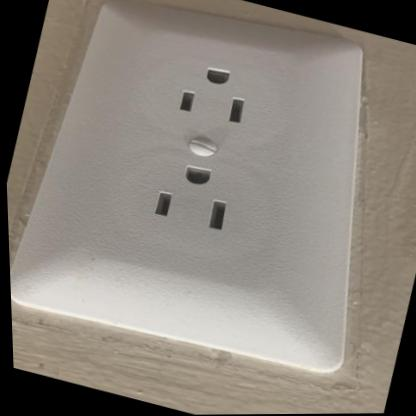OUTLET: (0, 0, 416, 384)
